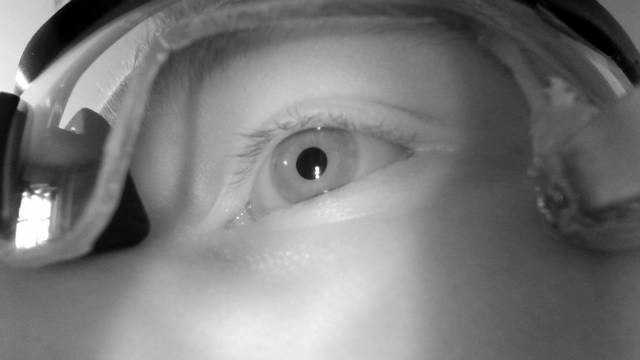pupil: (295, 146, 328, 180)
